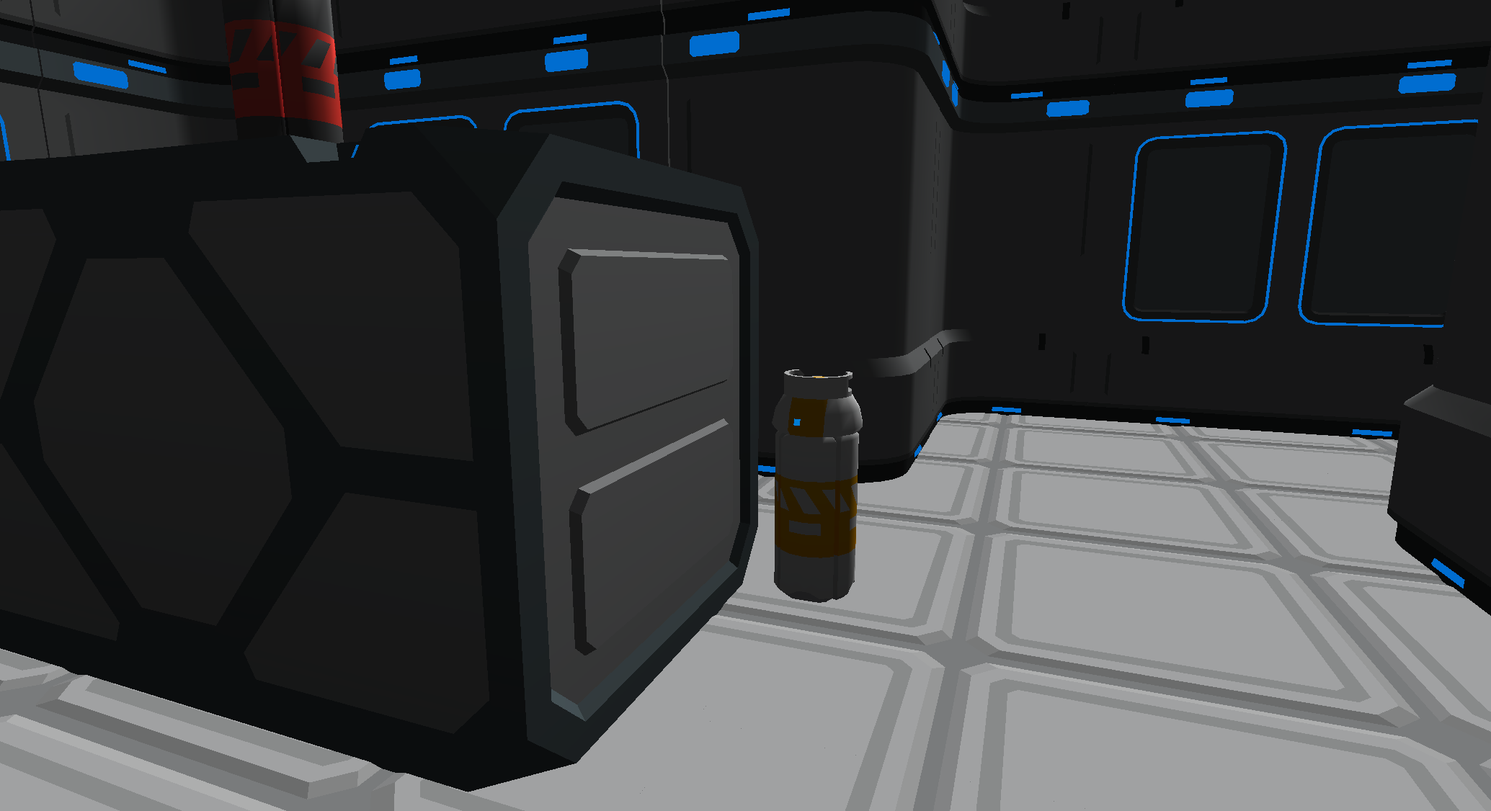red_barrel: (223, 0, 342, 142)
yellow_barrel: (773, 370, 862, 601)
